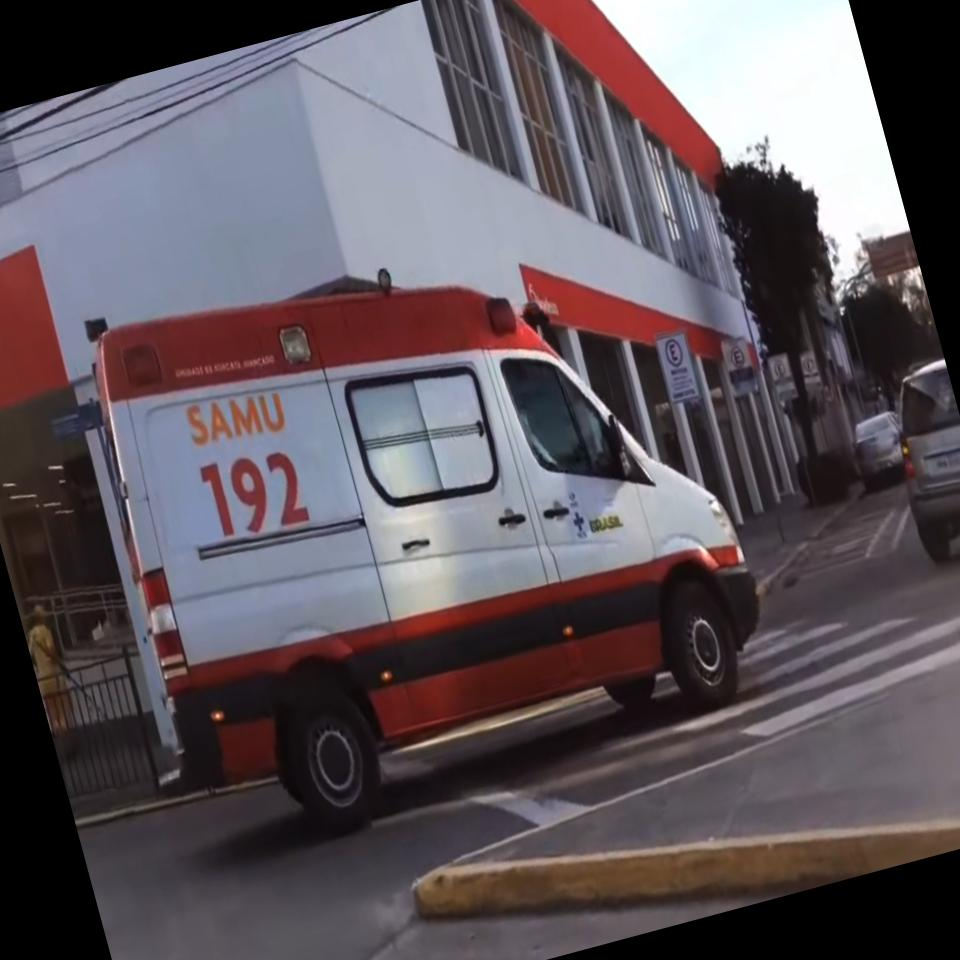bombeiro: (61, 175, 794, 870)
